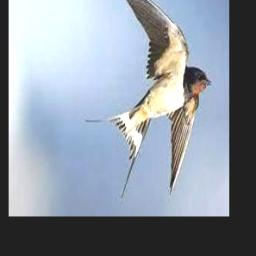Swallow: (85, 0, 210, 198)
